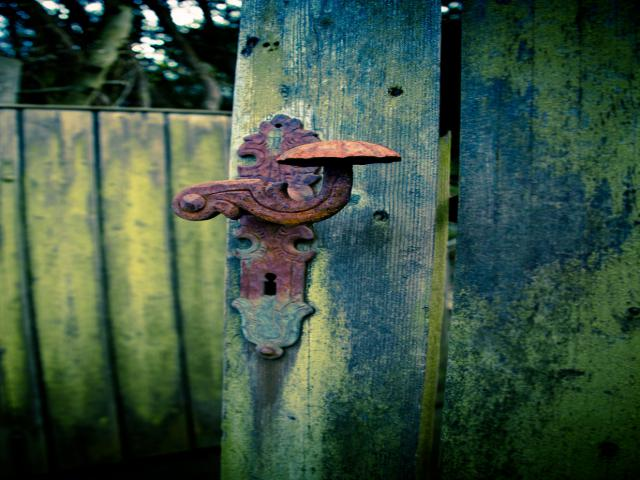Door-handle: (172, 112, 403, 360)
